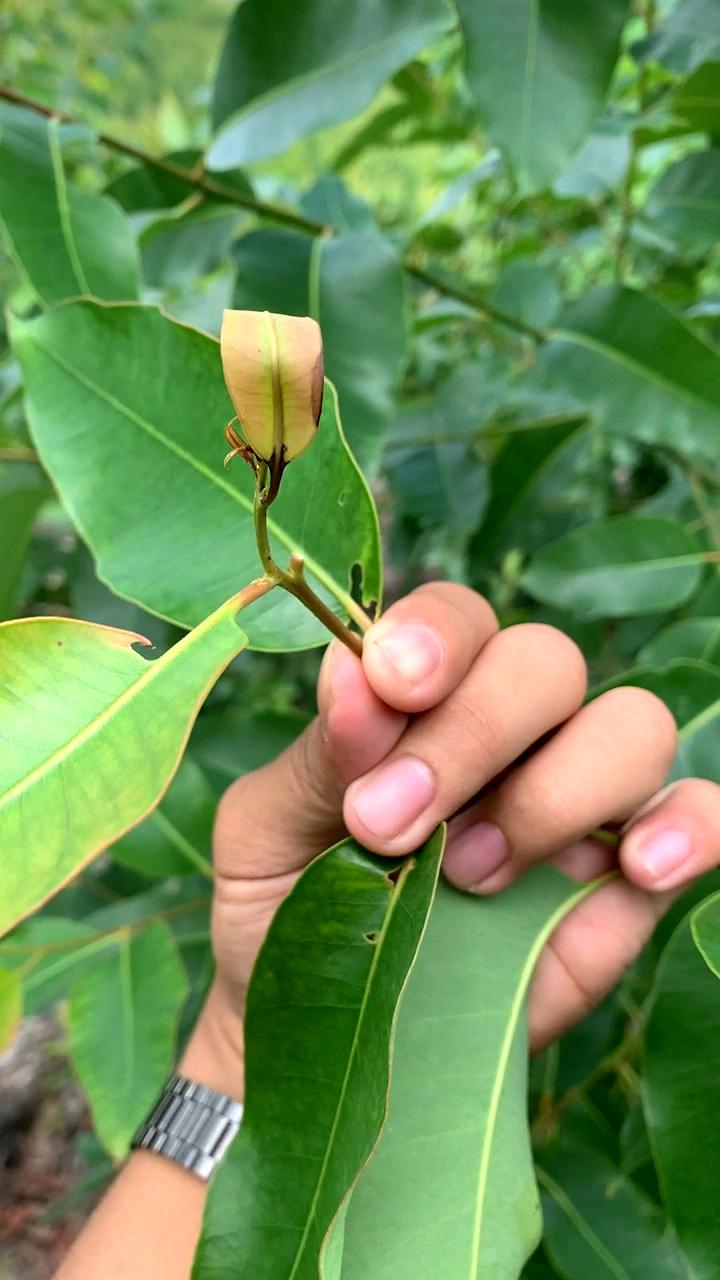Helopeltis-Withered Sprout: (213, 301, 341, 540)
